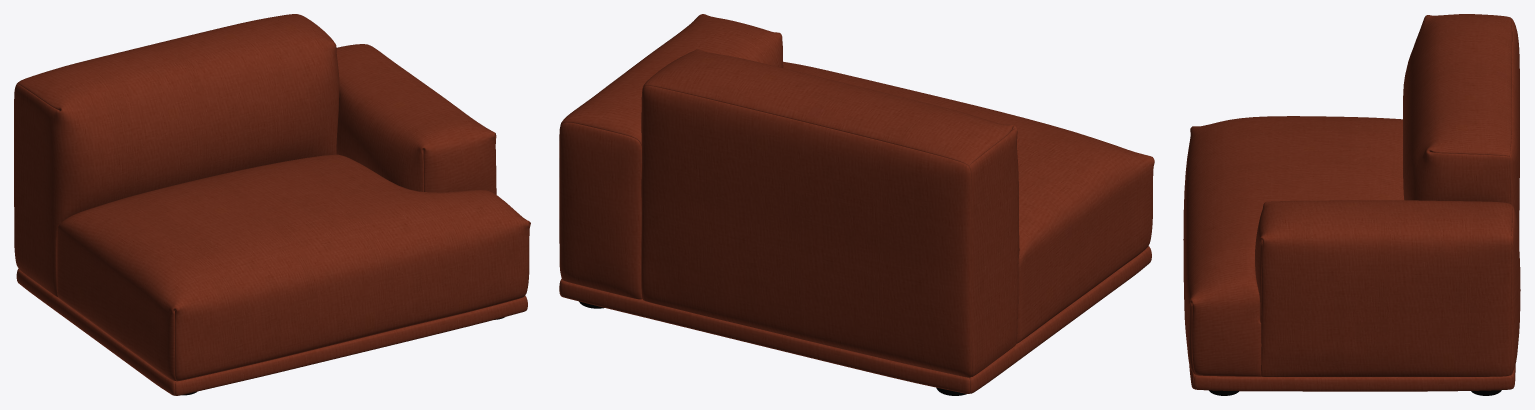
File: REMIX-566.glb
The picture shows the model from 3 angles, left to right: view 1: azimuth 30°, elevation 25°; view 2: azimuth 150°, elevation 25°; view 3: azimuth 270°, elevation 25°; orthographic projection. The views are drawn at different scales.
Visible parts, largest first — view 1: Upholstery_ARSD0; view 2: Upholstery_ARSD0; view 3: Upholstery_ARSD0.
Boxes of the visible parts, left/top/right/bottom form: Upholstery_ARSD0: left=14, top=14, right=530, bottom=395; Upholstery_ARSD0: left=559, top=14, right=1154, bottom=393; Upholstery_ARSD0: left=1183, top=14, right=1520, bottom=391.
Bounding box in the file's own units: 1.2 × 0.697 × 0.9539.
Materials: 2 (2 with a texture image).
